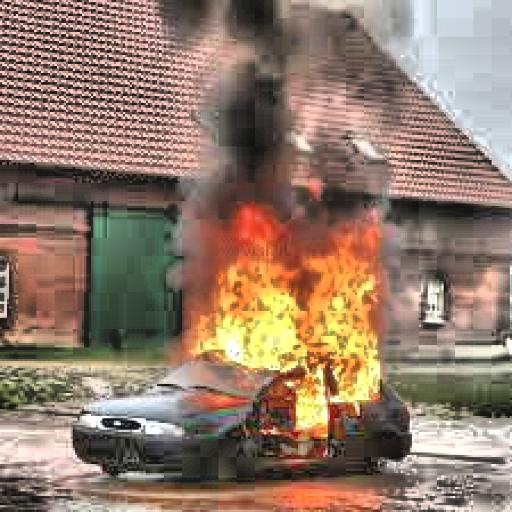fire: (180, 194, 412, 409)
